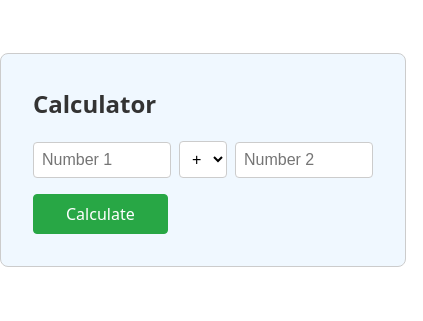
Test: Calculator › performs subtraction correctly
Type "10" into the number field named "First number" at (102, 160), box [33, 142, 171, 178]
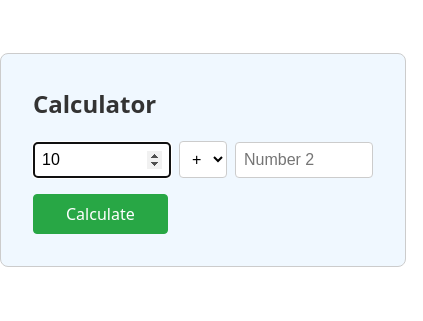
Type "4" into the number field named "Second number" at (304, 160), box [235, 142, 373, 178]
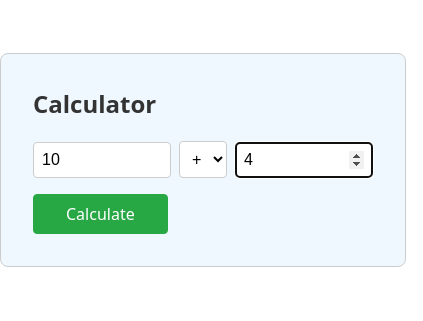
Select "-" in the dropdown named "Operation" at (203, 160), box [179, 142, 227, 178]
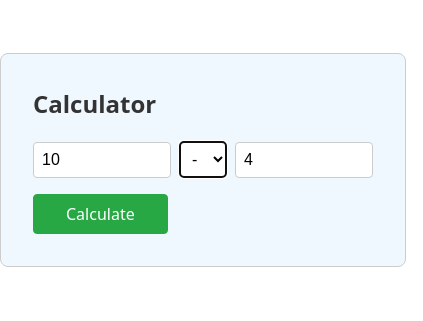
Click the button "Calculate" at (100, 214), box [33, 194, 168, 234]
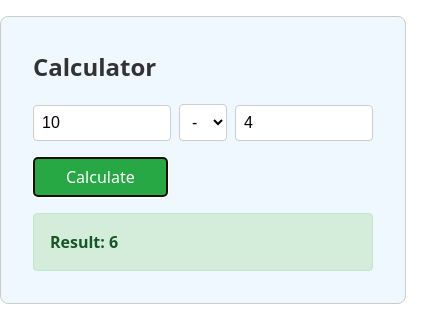
Now the text with test id "result" reads "Result: 6", box [33, 214, 373, 272]
